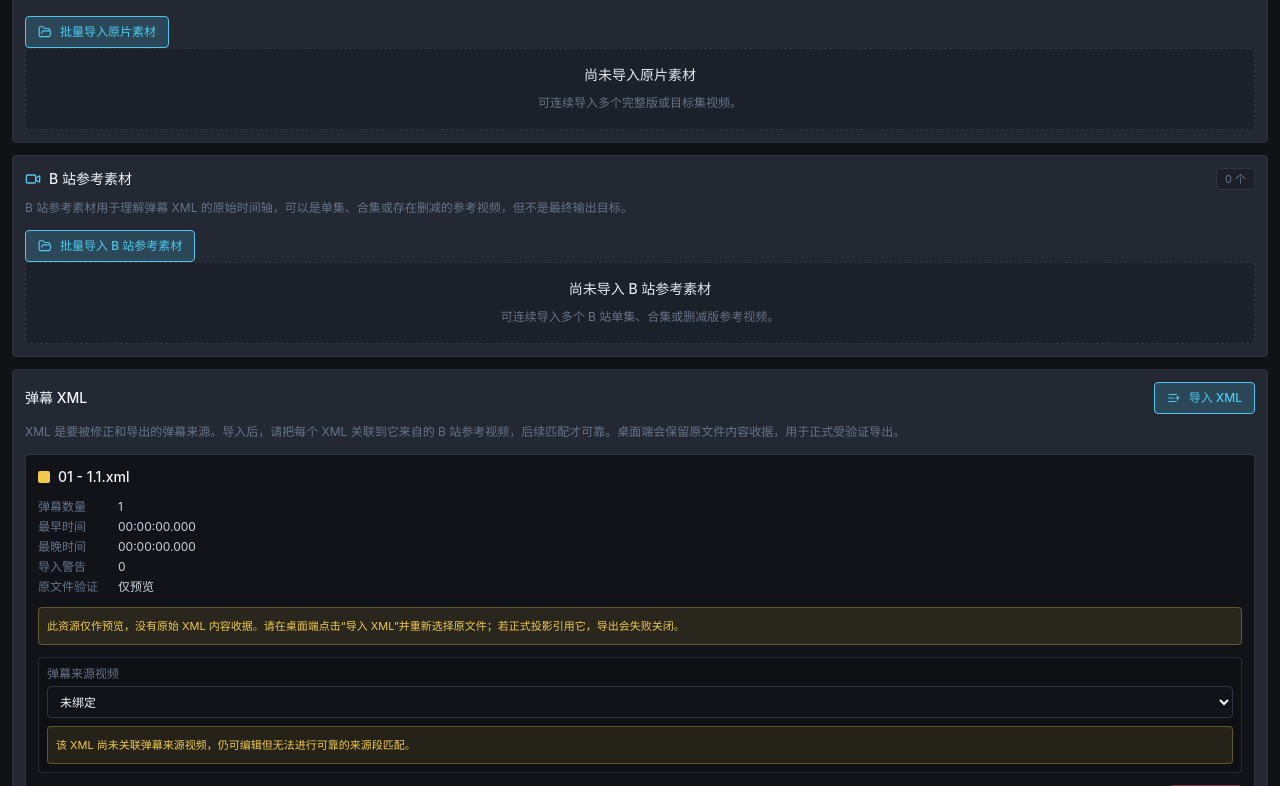
Test: 资源面板 › 桌面导入按钮使用原生多选并把权威收据显示为已受验证
(page scrolled)
Click the button "导入 XML".
click(1204, 398)  # box x1=1154 y1=382 x2=1255 y2=414
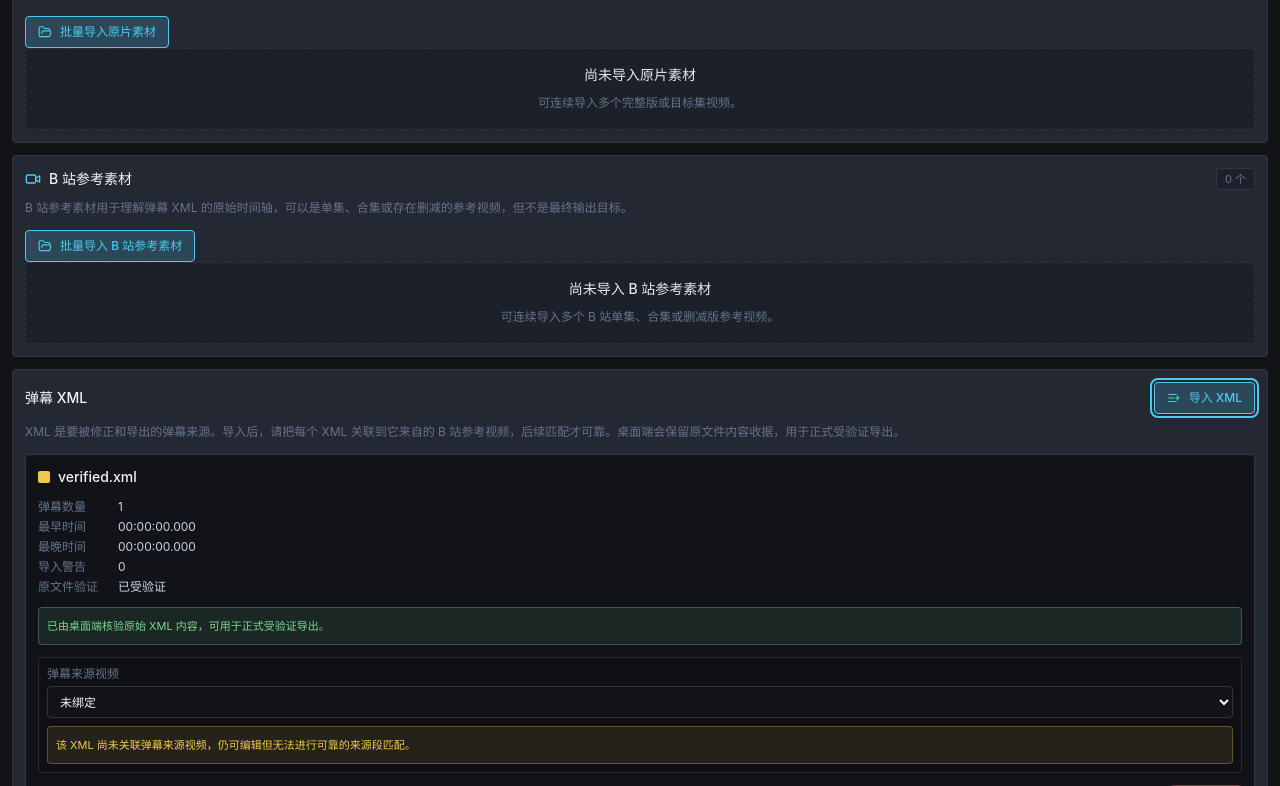
Check: the text "已受验证" is shown, box x1=118 y1=579 x2=166 y2=594
